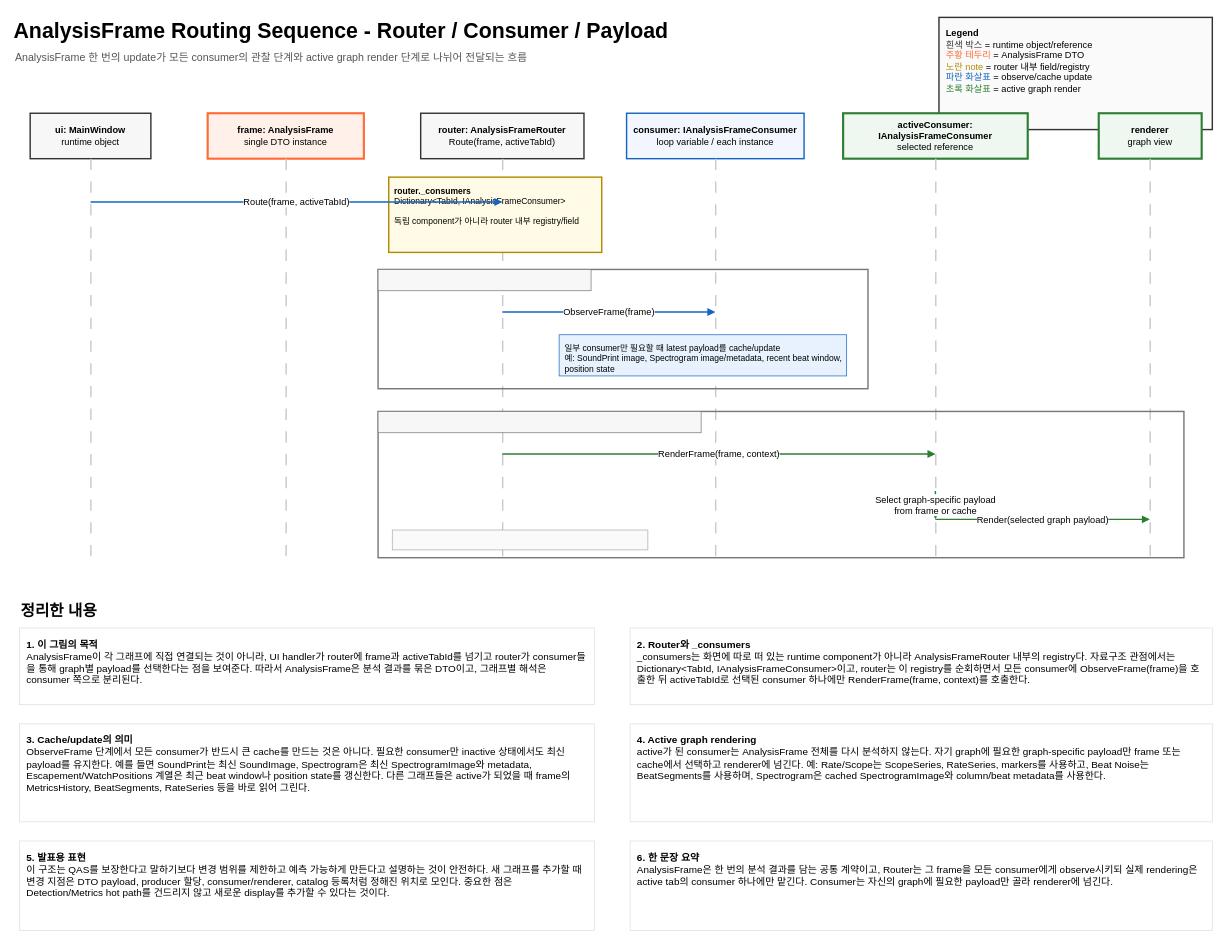
Some shapes in this 1225 by 943 pixel diagram are drawn without their labels. Each missing label, with the centre of its shape:
"alt [router._consumers.TryGetValue(activeTabId, out activeConsumer)]" goes at point 539,422.
"else: activeTabId에 맞는 consumer가 없으면 render 없음" goes at point 520,539.
"loop [for each consumer in router._consumers.Values]" goes at point 484,280.
